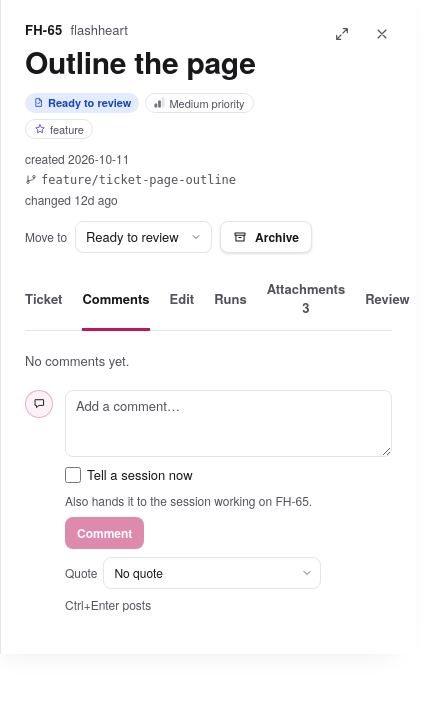
Test: telling a session now on the card panel (FH-127) › sends the comment to the session chosen, by keyboard, then resets
Type "Use the blue one." into the text box labelled "Add a comment". click: (228, 424)
box: [65,390,392,457]
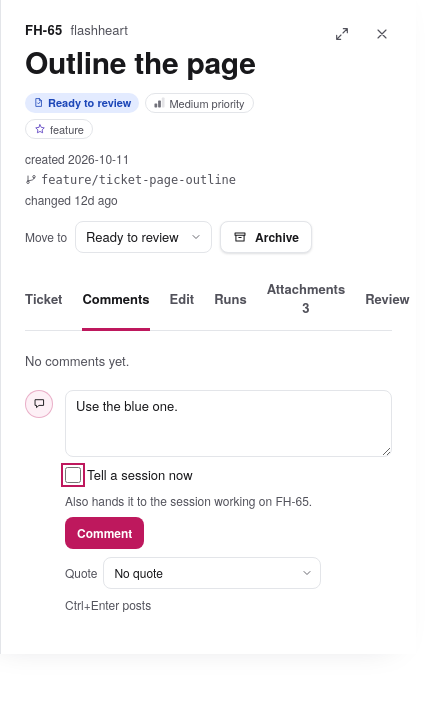
Type keys " "
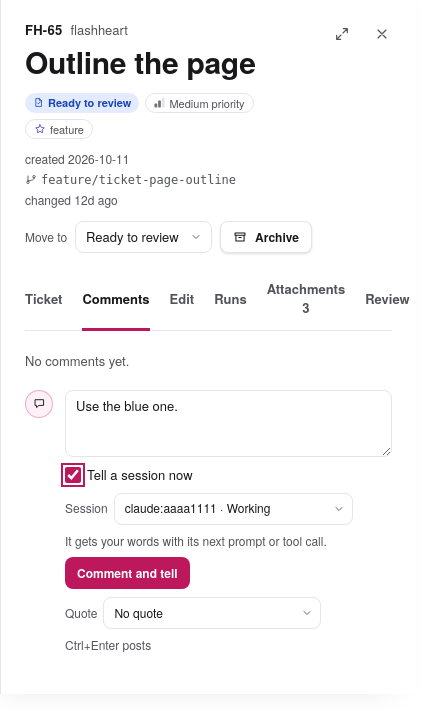
Now the checkbox labelled "Tell a session now" is checked, box [65,467,81,483]
Now the dropdown labelled "Session" shows "claude:aaaa1111 · Working"
Select "Explore subagent · Waiting" in the dropdown labelled "Session". click: (233, 508)
box: [114,492,353,524]
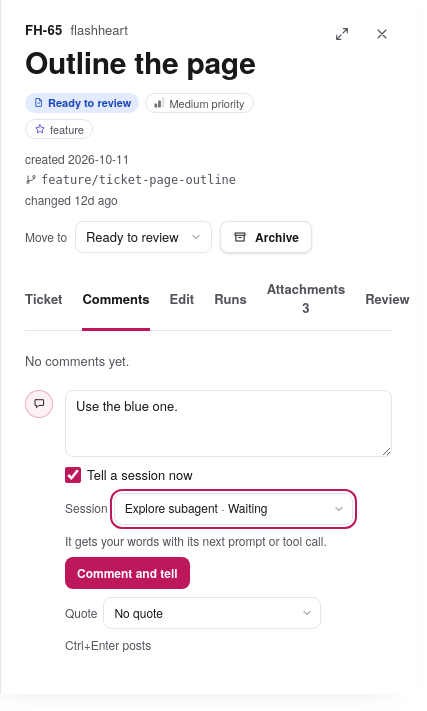
Click the button "Comment and tell". click: (127, 573)
box: [65,557,190,589]
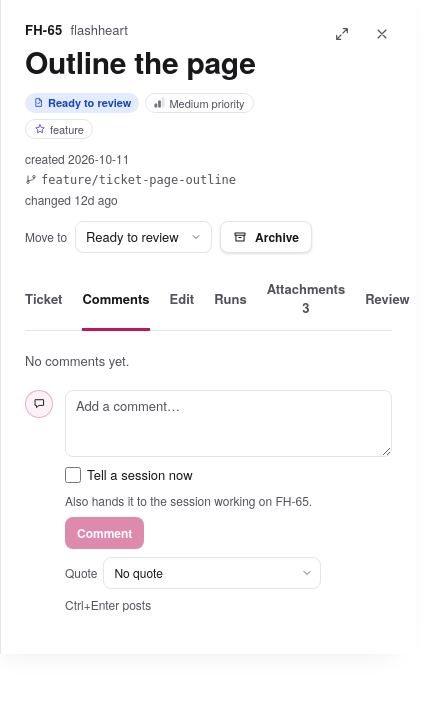
Expected: the button "Comment" is shown, [65,517,144,549]
Now the checkbox labelled "Tell a session now" is not checked, box [65,467,81,483]
